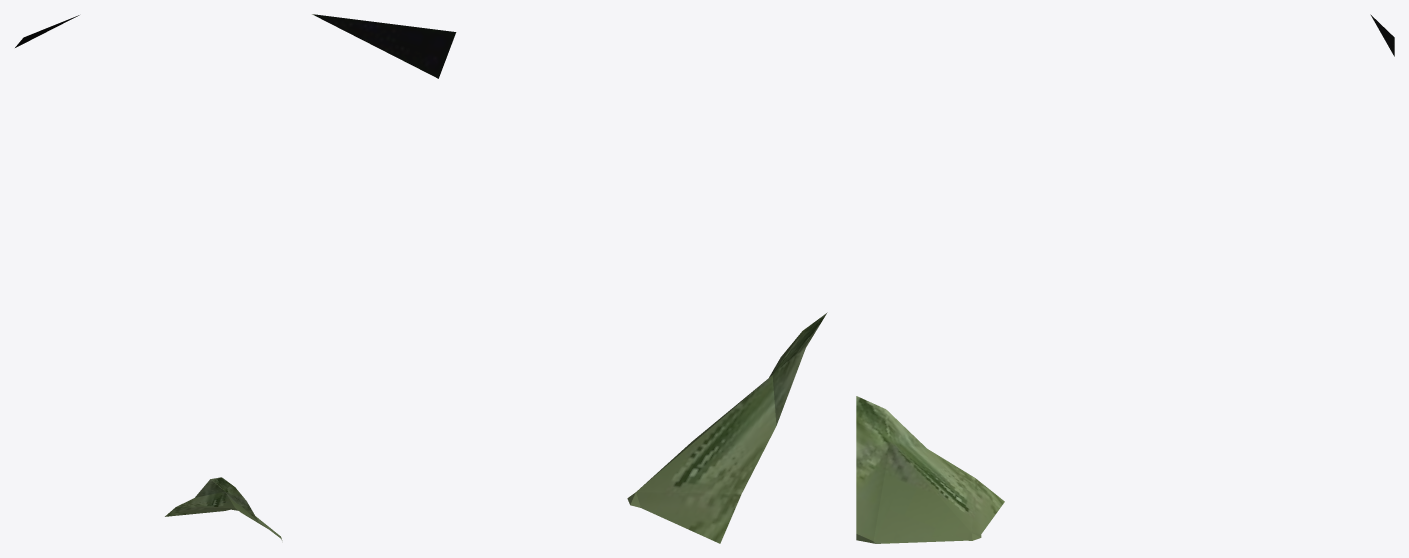
The picture shows the model from 3 angles, left to right: view 1: azimuth 30°, elevation 25°; view 2: azimuth 150°, elevation 25°; view 3: azimuth 270°, elevation 25°; orthographic projection. The views are drawn at different scales.
Bounding box in the file's own units: 1.11 × 5.9 × 5.9.
1 material, 1 textured.
